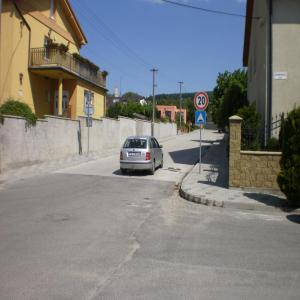Vehicle-registration-plate: (129, 153, 140, 158)
